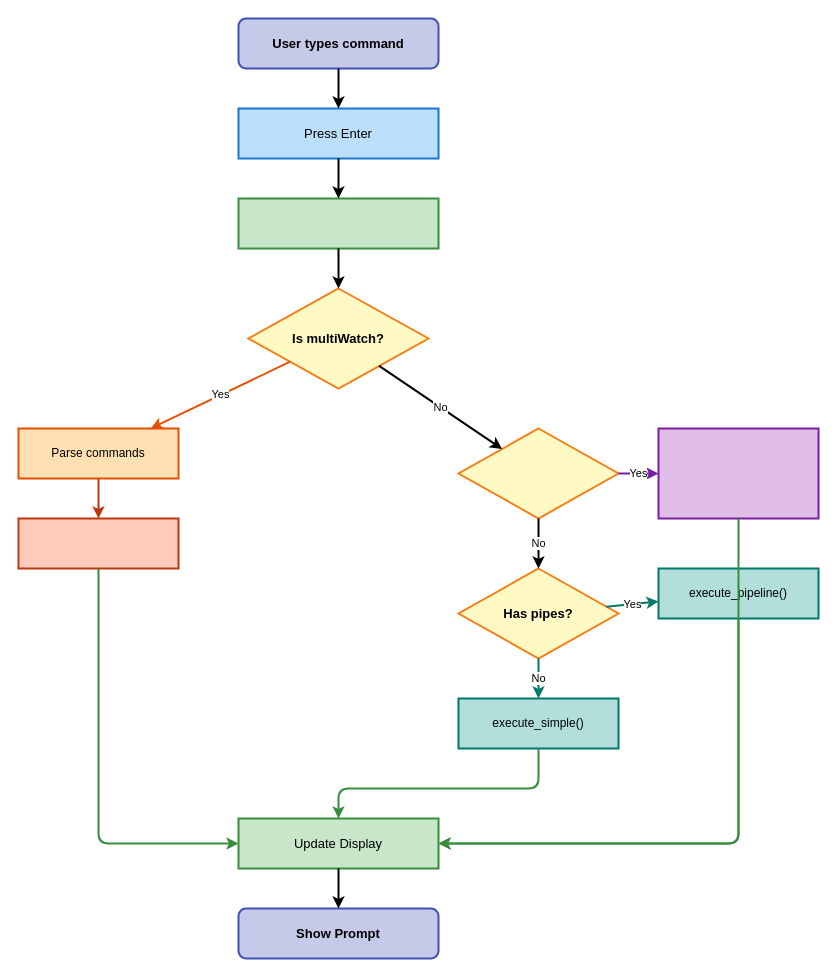
Image size: 836x976. Some labels were removed from this diagram. Here are the shapes that lost their labels. From the top down, the centre of each, then its label:
At pixel 338 223: "Add to History".
At pixel 538 473: "Is builtin?".
At pixel 738 473: "Execute builtin: cd, jobs, fg, bg, kill, clear, help".
At pixel 98 543: "Start parallel execution".
